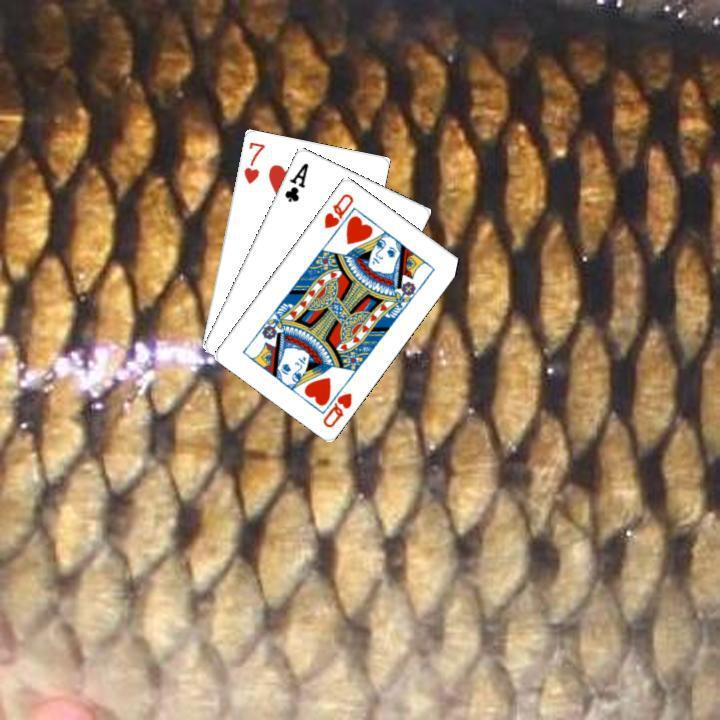7: (239, 137, 267, 186)
A: (280, 158, 311, 204)
Q: (316, 377, 354, 429), (319, 188, 355, 230)
